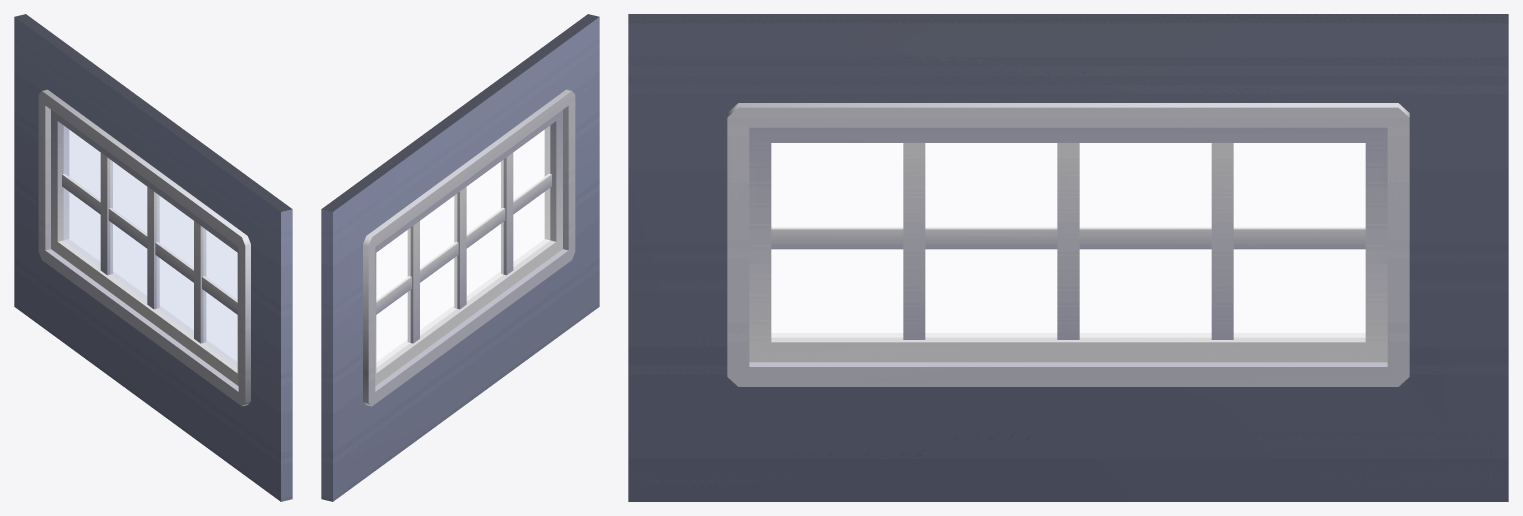
File: wall-window-wide-square-detailed.glb
3 views of the same model, side by side, from view 1: azimuth 30°, elevation 25°; view 2: azimuth 150°, elevation 25°; view 3: azimuth 270°, elevation 25° (orthographic). The views are drawn at different scales.
Parts seen in each view (by area): view 1: wall-window-wide-square-detailed, (%ignore); view 2: wall-window-wide-square-detailed, (%ignore); view 3: wall-window-wide-square-detailed, (%ignore).
Boxes of the visible parts, bbox=[...] form: wall-window-wide-square-detailed: bbox=[14, 14, 292, 501]; (%ignore): bbox=[63, 126, 237, 367]; wall-window-wide-square-detailed: bbox=[321, 14, 599, 501]; (%ignore): bbox=[376, 126, 550, 367]; wall-window-wide-square-detailed: bbox=[628, 14, 1508, 501]; (%ignore): bbox=[771, 143, 1365, 337].
Size of the model in its own units: 0.2 by 2.4 by 4.
Materials: 2 (1 with a texture image).
